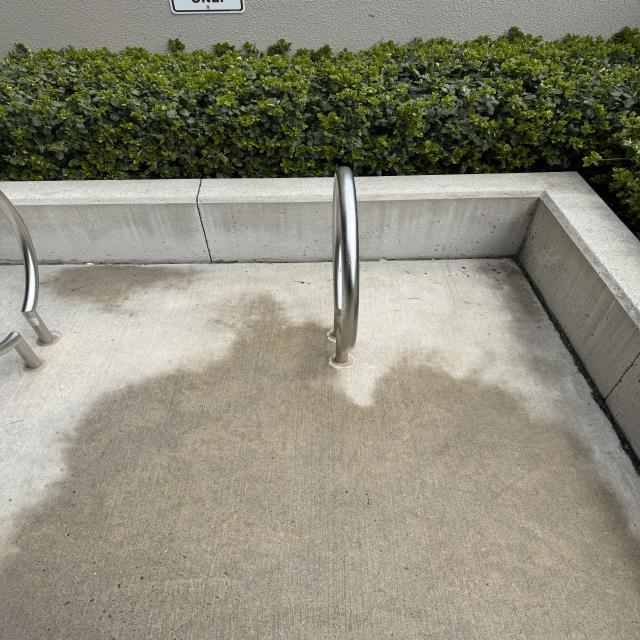Bicycle Rack: (0, 184, 62, 369), (324, 156, 368, 368)
